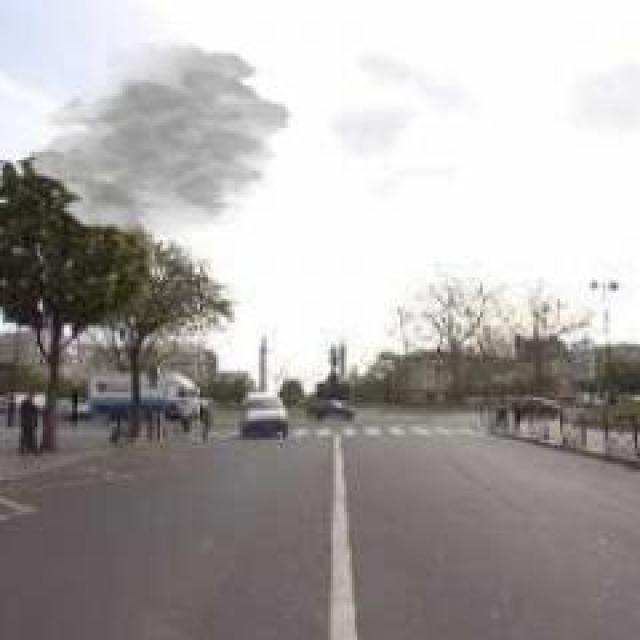Smoke: (30, 35, 300, 247)
